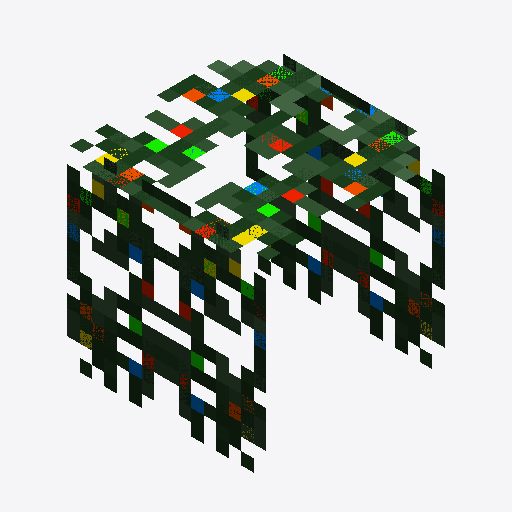
A Minecraft block model of 3 cuboids, rendered isometrically (azimuth 45°, elevation 35.3°) with the resource pack's own textures.
Visible parts, largest first — element 3, element 1, element 2.
Part boxes in pixels (bbox=[...]): element 3: bbox=[67, 157, 265, 472]; element 1: bbox=[70, 60, 416, 259]; element 2: bbox=[246, 54, 444, 368].
Size of the model in its own units: 16 by 16 by 16.